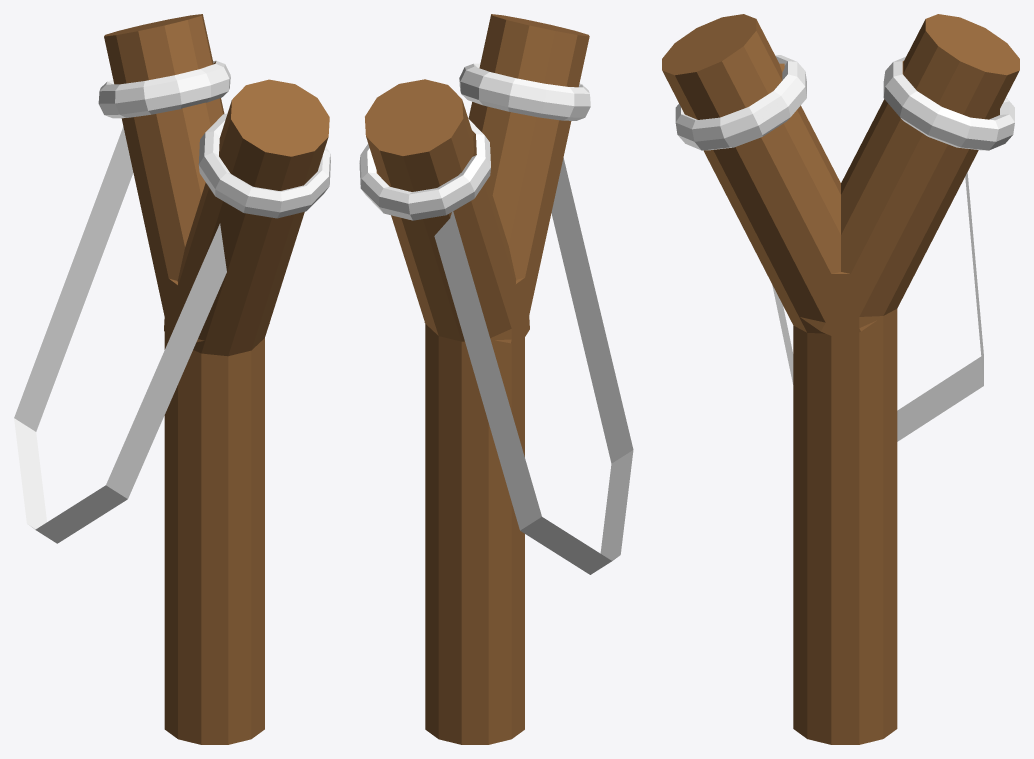
Rendered from guleli.obj.
3 views of the same model, side by side, from view 1: azimuth 30°, elevation 25°; view 2: azimuth 150°, elevation 25°; view 3: azimuth 270°, elevation 25° (orthographic). The views are drawn at different scales.
Visible parts, largest first — view 1: plane; view 2: plane; view 3: plane.
Boxes of the visible parts, box(x1,y1,x2,y2) form: plane: box(14, 14, 330, 744); plane: box(359, 14, 633, 744); plane: box(662, 14, 1019, 744).
Bounding box in the file's own units: 0.4771 × 1.39 × 0.6452.
1 material, 1 textured.
